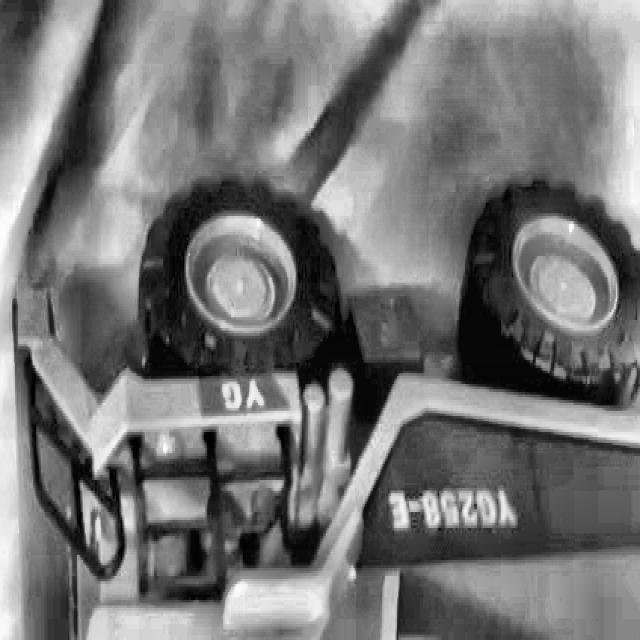dump_truck: (16, 173, 640, 639)
